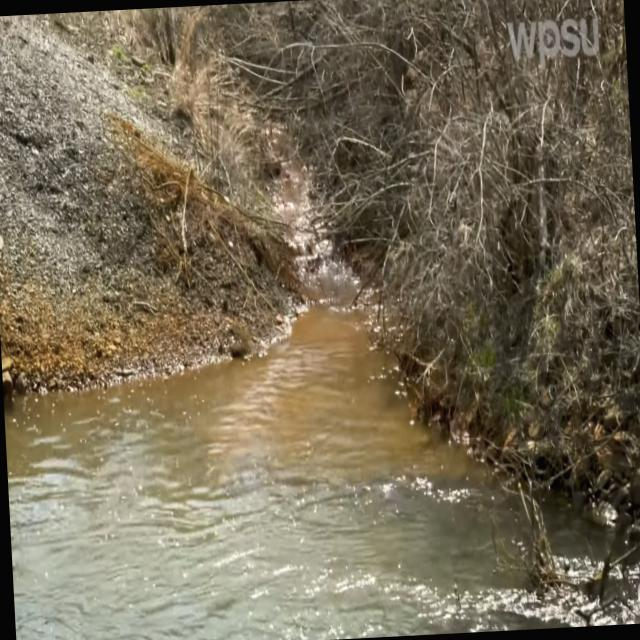yellow_boy: (147, 240, 507, 508)
